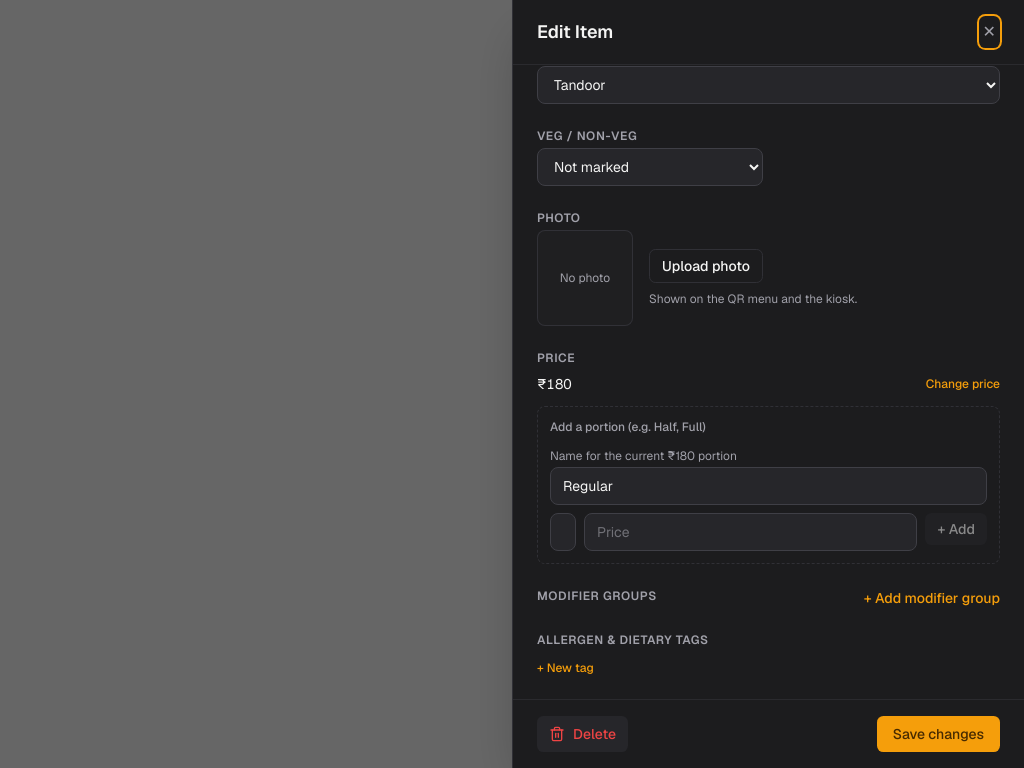
it: ItemDrawer modifier group validation messaging › clears the validation message and enables save once the group is filled in correctly
(page scrolled)
Step 1. Click the button with test id "item-add-modifier-group" → (932, 598), box [864,588,1000,608]
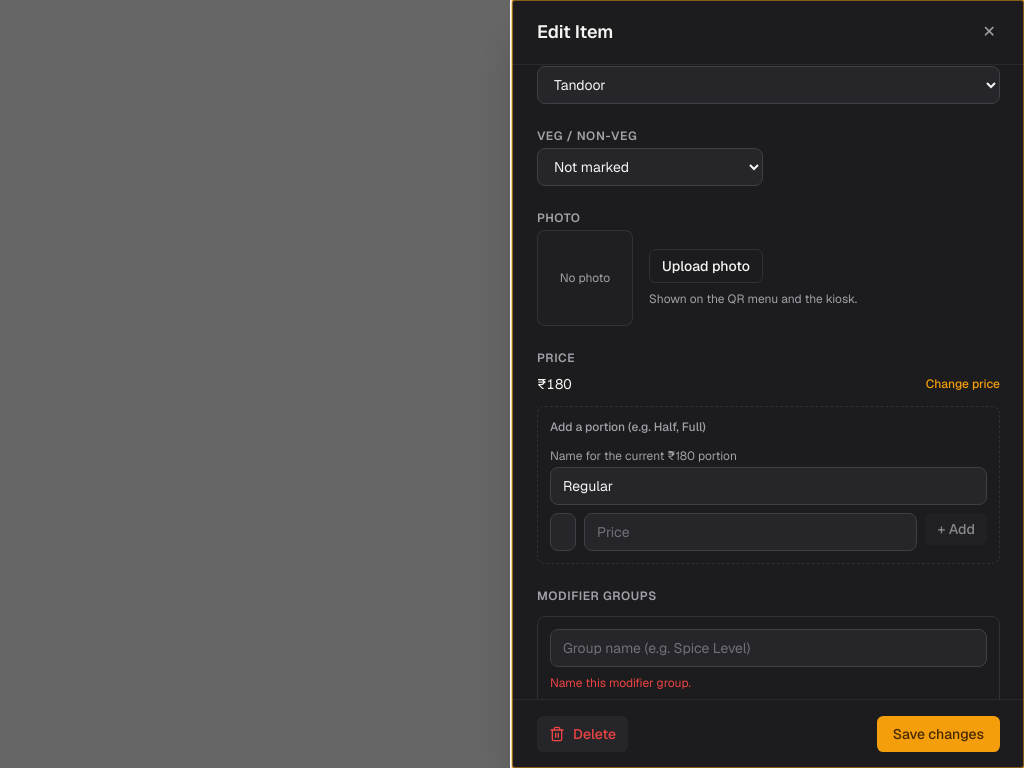
Step 2. Type "Spice Level" into the field with test id "new-modifier-group-name" → (768, 648), box [550,629,987,667]
(page scrolled)
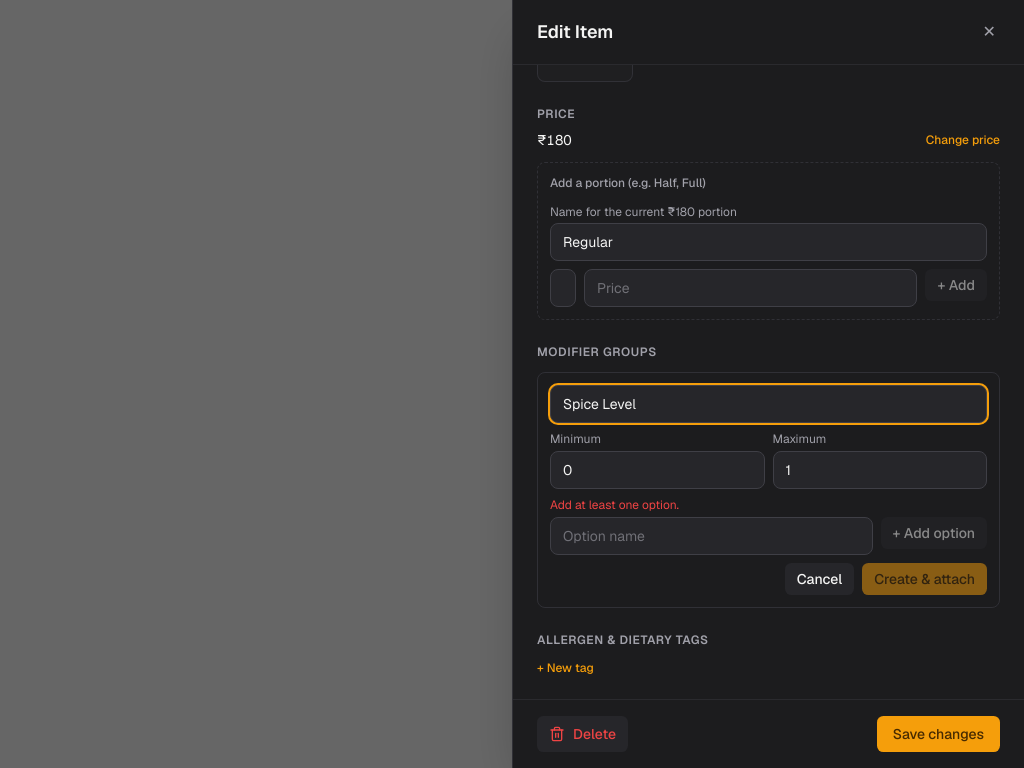
Step 3. Type "Mild" into the field with test id "new-modifier-group-option-name" → (711, 536), box [550,517,872,555]
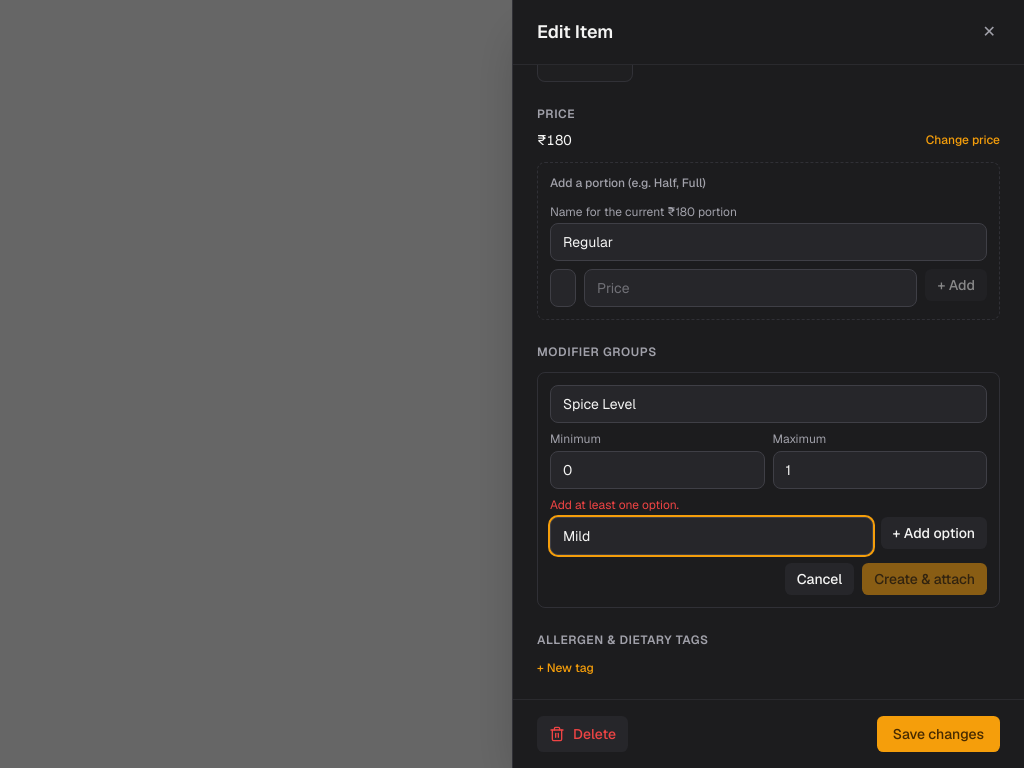
Step 4. Click the button with test id "new-modifier-group-add-option" → (934, 533), box [880,517,987,549]
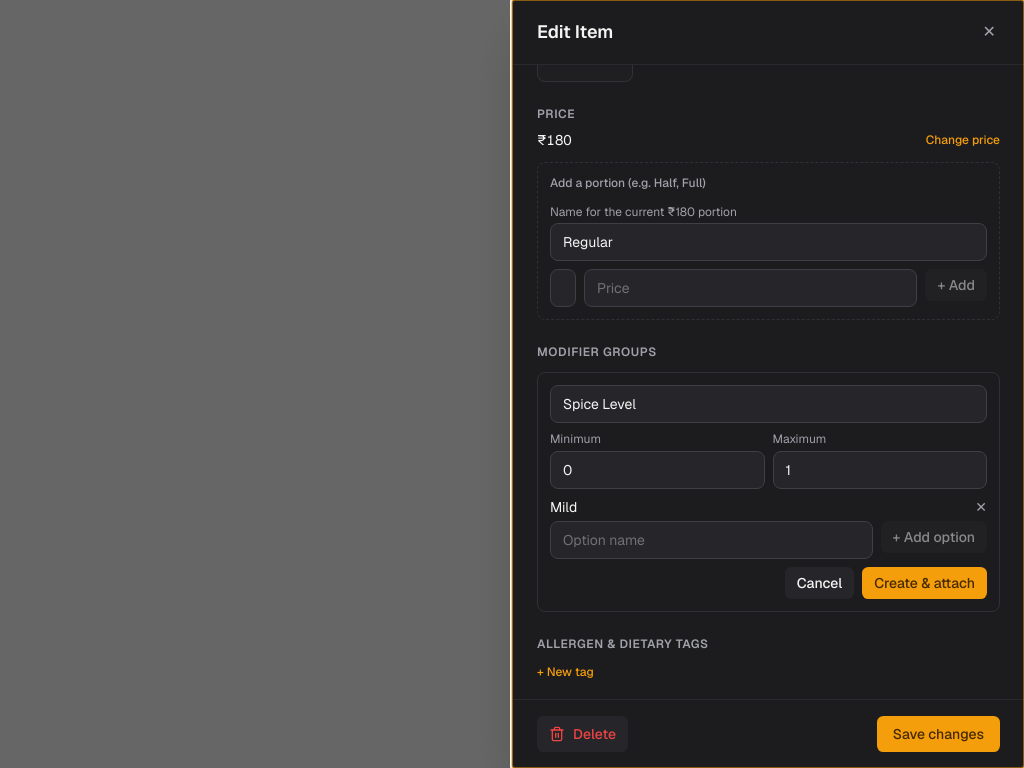
Expected: the text with test id "new-modifier-group-options-error" is gone
Expected: the button with test id "new-modifier-group-save" is enabled, [862,567,987,599]
